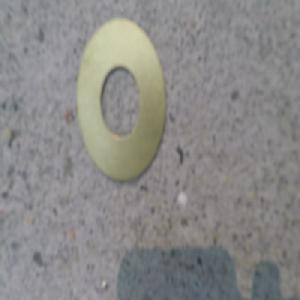Washer: (75, 23, 165, 183)
